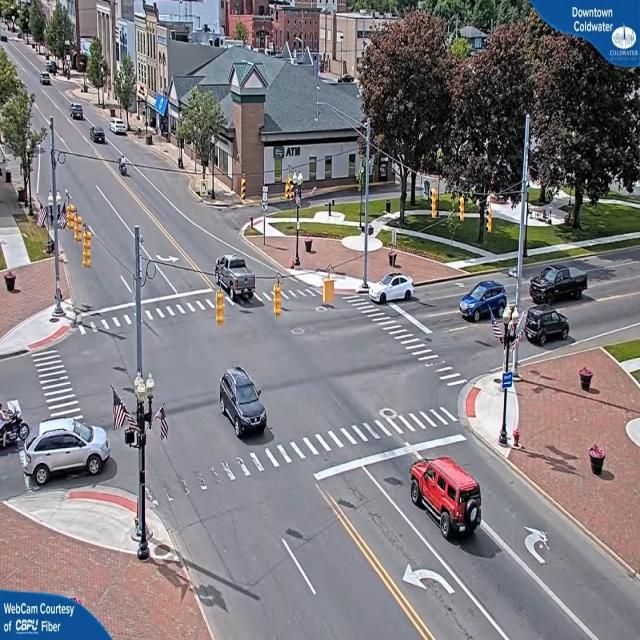car: (410, 458, 482, 544), (22, 420, 112, 488), (218, 366, 269, 439), (529, 266, 588, 305), (460, 280, 508, 321), (215, 256, 256, 304), (523, 306, 570, 346), (369, 273, 416, 305), (110, 120, 129, 136)
motorbike: (1, 405, 30, 452)
